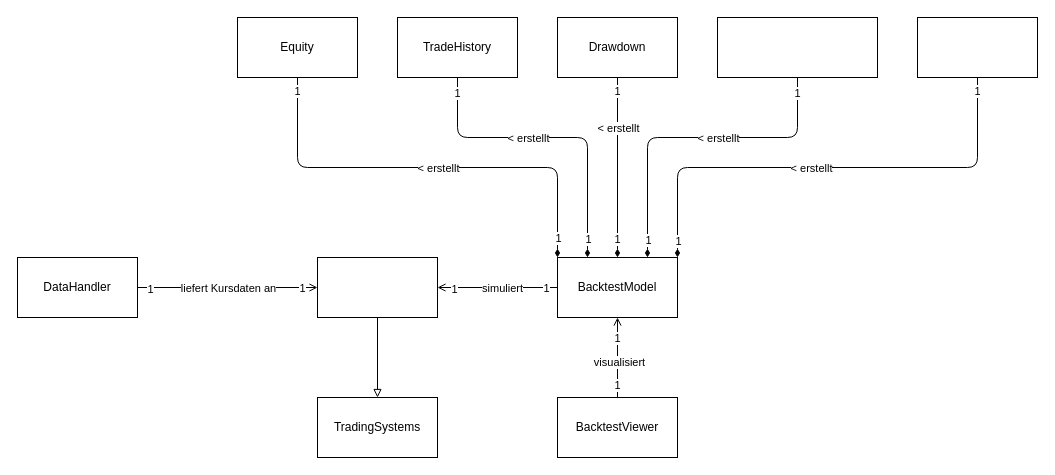
The diagram is 1055 pixels wide and 475 high, and some of its shapes have lost their labels. The shapes that lost their labels are listed below. From the top down, each one's box as (x1, y1, x2, y2) in pixels, then its label:
(716, 16, 878, 78): PerformanceMeasurement
(916, 16, 1038, 78): SpreadSheet
(316, 256, 438, 318): Handelssystem
